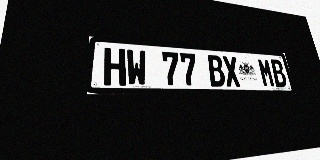7: (160, 52, 181, 86), (179, 53, 199, 86)
B: (206, 55, 226, 87), (269, 59, 288, 87)
H: (104, 48, 126, 86)
M: (257, 58, 276, 87)
W: (126, 49, 147, 86)
X: (222, 56, 241, 87)
